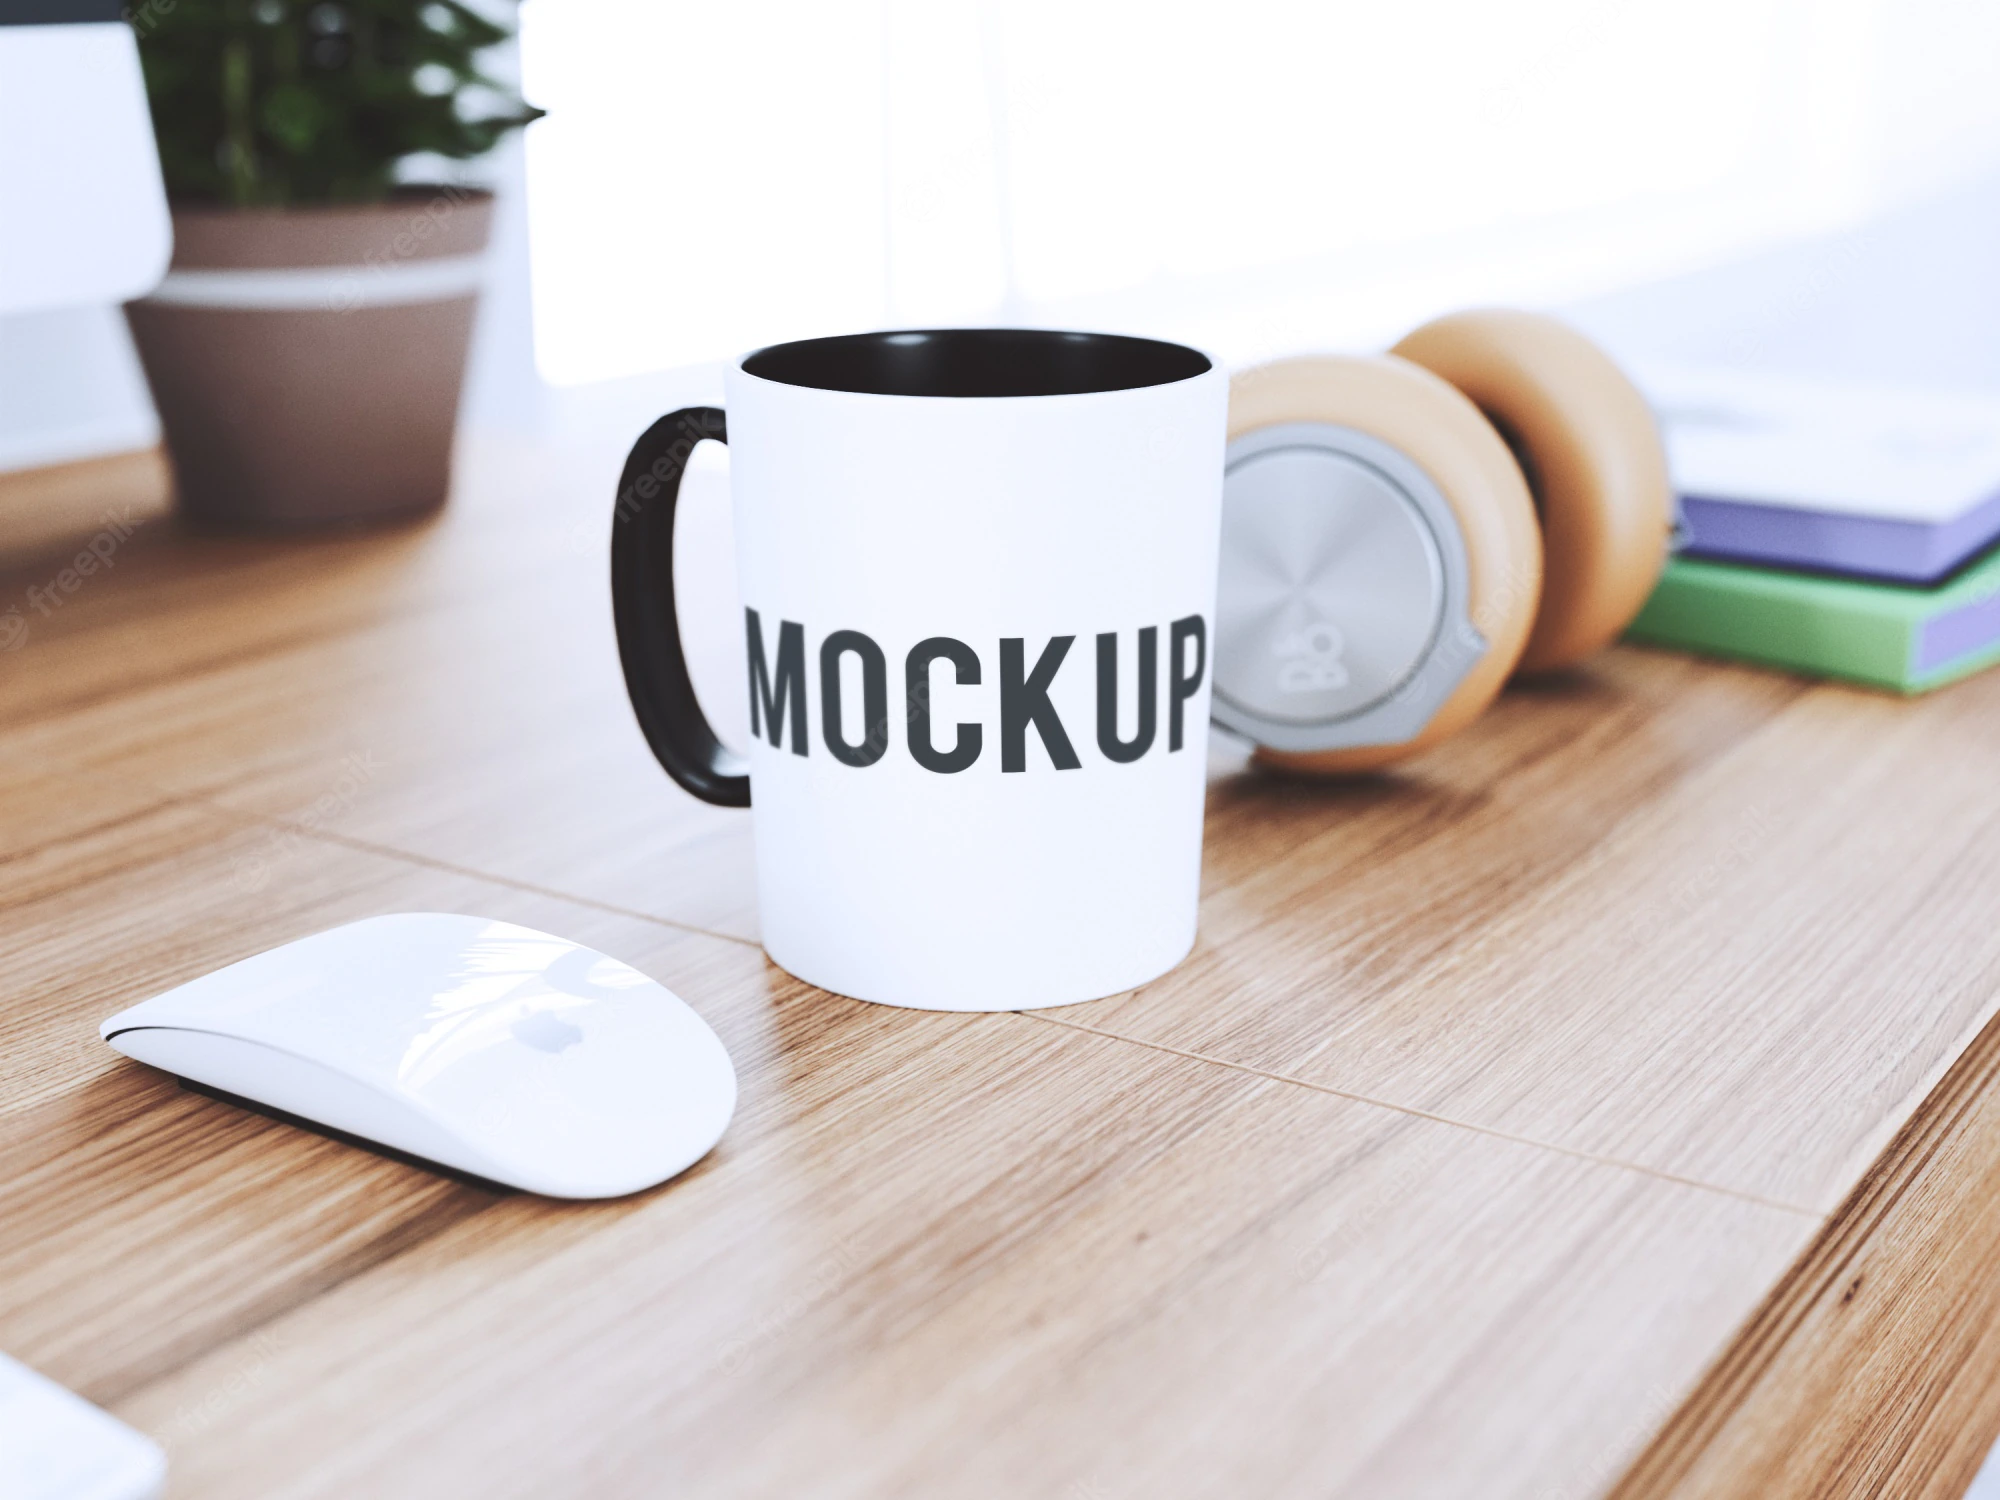cup: (605, 321, 1266, 1015)
